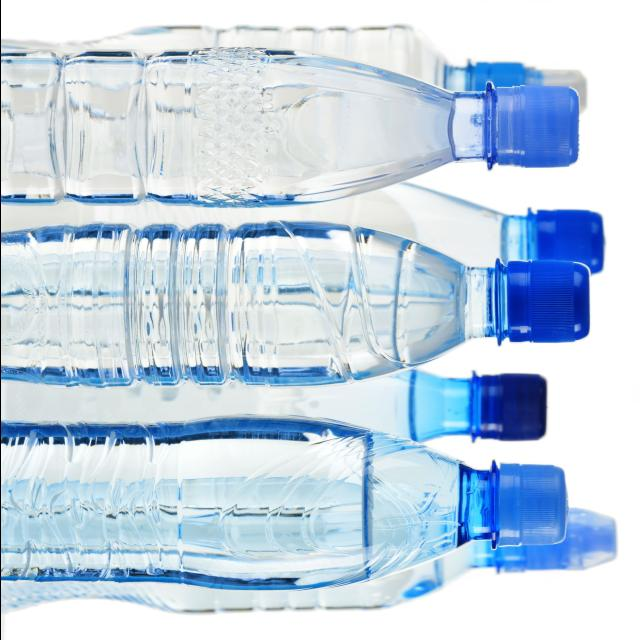cap: (466, 73, 578, 179), (475, 258, 588, 354), (479, 460, 581, 550), (506, 199, 605, 280), (488, 517, 626, 573), (460, 364, 547, 442), (469, 62, 591, 96)
